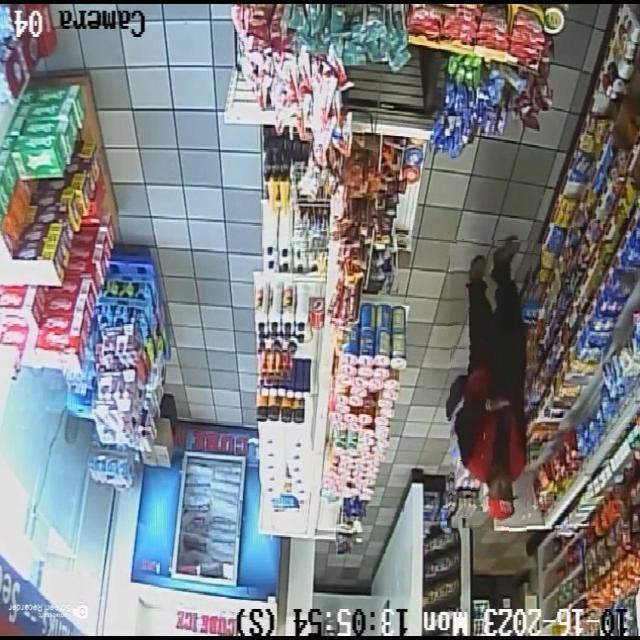Normal: (450, 240, 538, 530)
